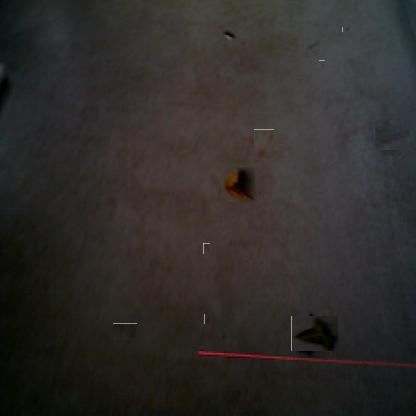dirty: (294, 313, 335, 354), (221, 166, 255, 202), (252, 132, 277, 156), (223, 30, 235, 44)
mark: (377, 123, 407, 153), (113, 323, 137, 340), (305, 38, 319, 52), (203, 243, 210, 254), (204, 314, 211, 324), (220, 331, 228, 339), (343, 26, 351, 33), (319, 60, 325, 69), (258, 189, 264, 197)
